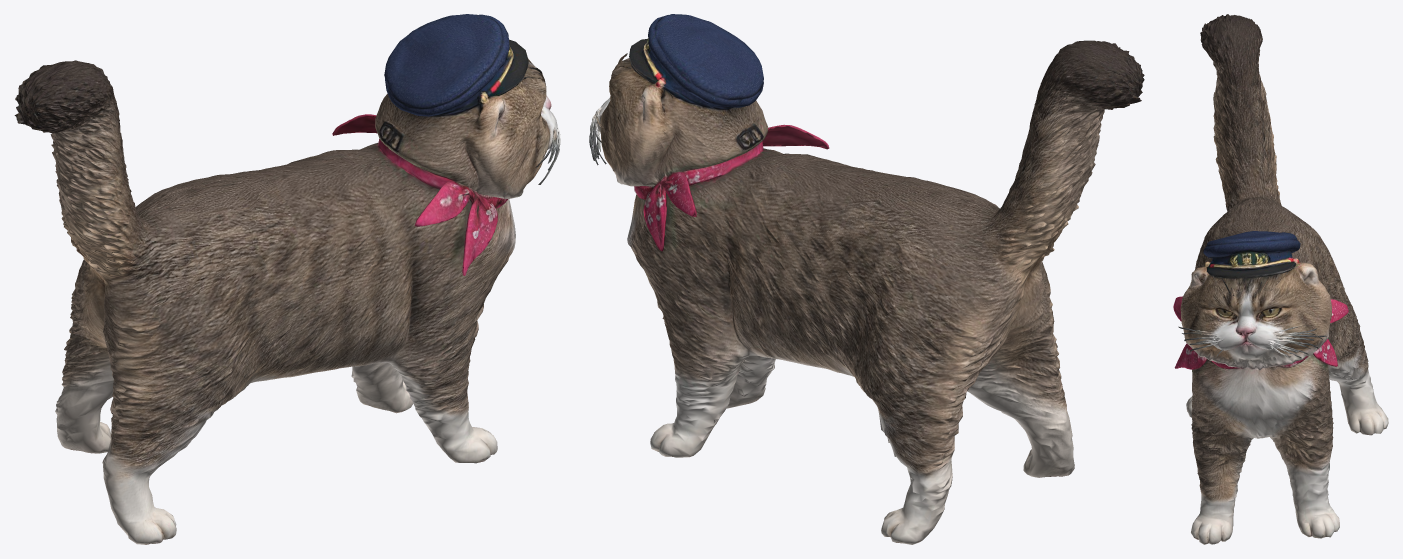
The model's file is AIZUSAKURA.glb.
The picture shows the model from 3 angles, left to right: view 1: azimuth 30°, elevation 25°; view 2: azimuth 150°, elevation 25°; view 3: azimuth 270°, elevation 25°; orthographic projection. The views are drawn at different scales.
Visible parts, largest first — view 1: tripo_node_3bd3f04c-b3a3-4519-8bab-30fdad52660e; view 2: tripo_node_3bd3f04c-b3a3-4519-8bab-30fdad52660e; view 3: tripo_node_3bd3f04c-b3a3-4519-8bab-30fdad52660e.
Boxes of the visible parts, x1,y1,x2,y2 form: tripo_node_3bd3f04c-b3a3-4519-8bab-30fdad52660e: (14,14,560,544); tripo_node_3bd3f04c-b3a3-4519-8bab-30fdad52660e: (589,14,1144,544); tripo_node_3bd3f04c-b3a3-4519-8bab-30fdad52660e: (1173,14,1388,544).
Size of the model in its own units: 1.19 by 0.9977 by 0.5254.
Materials: 1 (1 with a texture image).
